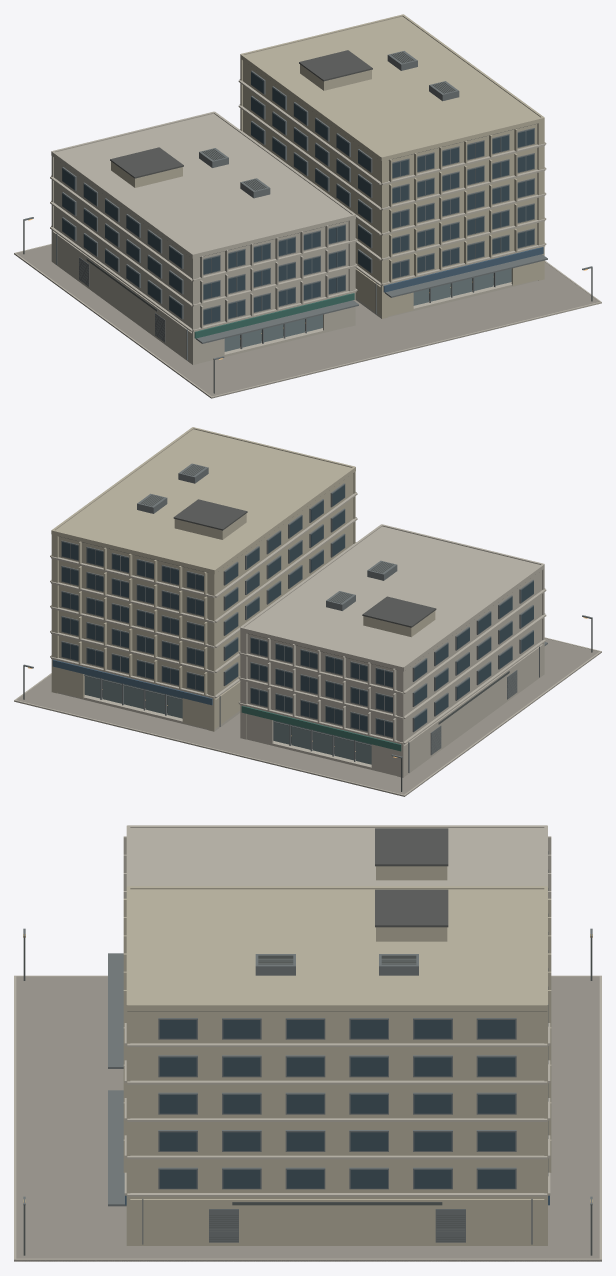
Rendered from block-0-0.glb.
3 views of the same model, one above another, from view 1: azimuth 30°, elevation 25°; view 2: azimuth 150°, elevation 25°; view 3: azimuth 270°, elevation 25° (orthographic). The views are drawn at different scales.
Parts seen in each view (by area): view 1: block-0-0:concrete, block-0-0:stucco, block-0-0:glass, block-0-0:paversGrey, block-0-0:aluminium, block-0-0:roof, block-0-0:shopGlass, block-0-0:darkSteel, block-0-0:greenTrim, block-0-0:blueTrim; view 2: block-0-0:concrete, block-0-0:stucco, block-0-0:glass, block-0-0:paversGrey, block-0-0:aluminium, block-0-0:shopGlass, block-0-0:roof, block-0-0:darkSteel, block-0-0:greenTrim, block-0-0:blueTrim; view 3: block-0-0:stucco, block-0-0:paversGrey, block-0-0:concrete, block-0-0:glass, block-0-0:aluminium, block-0-0:roof, block-0-0:darkSteel.
Boxes of the visible parts, x1=… form: block-0-0:concrete: x1=14, y1=79, x2=601, y2=397; block-0-0:stucco: x1=111, y1=14, x2=544, y2=318; block-0-0:glass: x1=62, y1=72, x2=533, y2=324; block-0-0:paversGrey: x1=14, y1=245, x2=598, y2=398; block-0-0:aluminium: x1=23, y1=51, x2=592, y2=360; block-0-0:roof: x1=110, y1=50, x2=537, y2=257; block-0-0:shopGlass: x1=224, y1=268, x2=511, y2=351; block-0-0:darkSteel: x1=23, y1=51, x2=592, y2=393; block-0-0:greenTrim: x1=194, y1=293, x2=354, y2=338; block-0-0:blueTrim: x1=383, y1=247, x2=543, y2=292; block-0-0:concrete: x1=14, y1=492, x2=601, y2=796; block-0-0:stucco: x1=51, y1=427, x2=435, y2=731; block-0-0:glass: x1=62, y1=485, x2=533, y2=737; block-0-0:paversGrey: x1=16, y1=638, x2=601, y2=796; block-0-0:aluminium: x1=23, y1=463, x2=592, y2=772; block-0-0:shopGlass: x1=84, y1=674, x2=371, y2=764; block-0-0:roof: x1=60, y1=499, x2=436, y2=668; block-0-0:darkSteel: x1=23, y1=464, x2=592, y2=791; block-0-0:greenTrim: x1=241, y1=706, x2=401, y2=751; block-0-0:blueTrim: x1=52, y1=659, x2=212, y2=705; block-0-0:stucco: x1=123, y1=866, x2=551, y2=1245; block-0-0:paversGrey: x1=14, y1=977, x2=601, y2=1261; block-0-0:concrete: x1=14, y1=825, x2=601, y2=1261; block-0-0:glass: x1=159, y1=1020, x2=515, y2=1188; block-0-0:aluminium: x1=23, y1=851, x2=592, y2=1244; block-0-0:roof: x1=127, y1=828, x2=546, y2=1011; block-0-0:darkSteel: x1=23, y1=937, x2=592, y2=1255.
Size of the model in its own units: 48 by 20.31 by 42.
